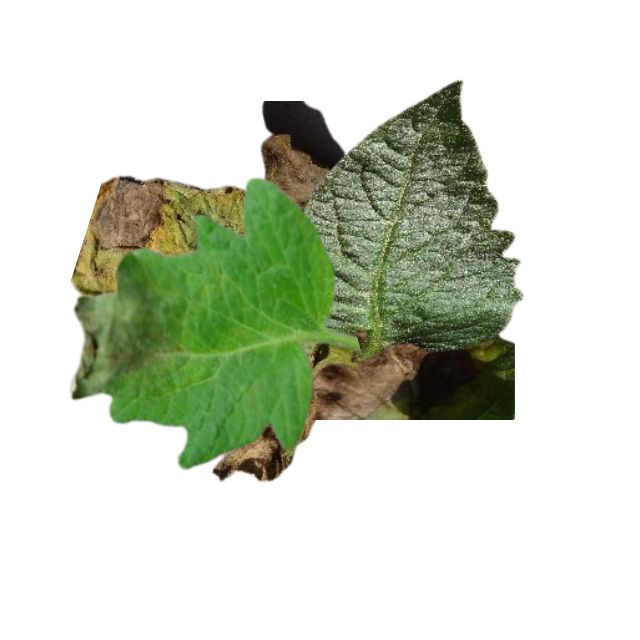Late_blight: (69, 174, 247, 295), (68, 258, 174, 402), (297, 340, 427, 443), (260, 134, 328, 212), (209, 425, 293, 482)
